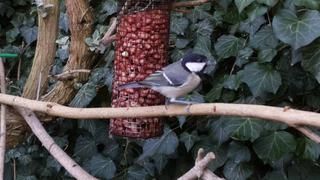great tit: (116, 53, 217, 114)
